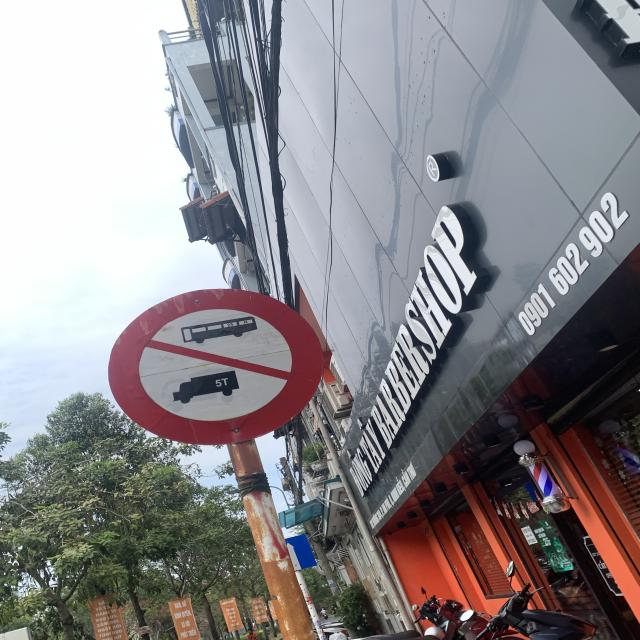Cam_XeTai_XeKhach: (108, 289, 323, 447)
